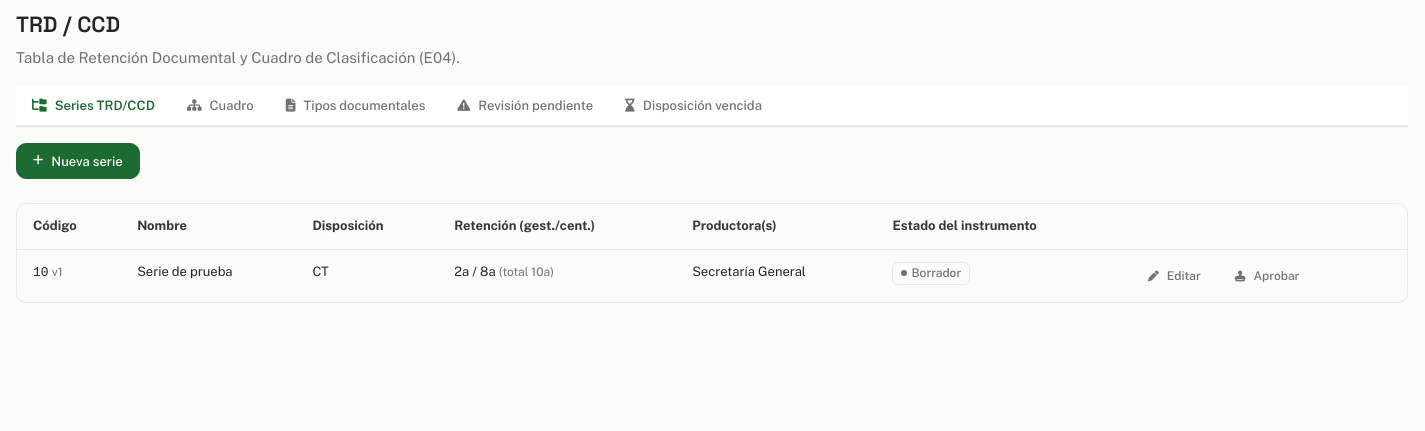
Test: /admin/trd — Revisión pendiente (ADR-025 D4/D6) › cola vacía de verdad: se dice que no hay nada que revisar
Click the tab "Revisión pendiente".
click(525, 107)  # box [441,86,609,127]
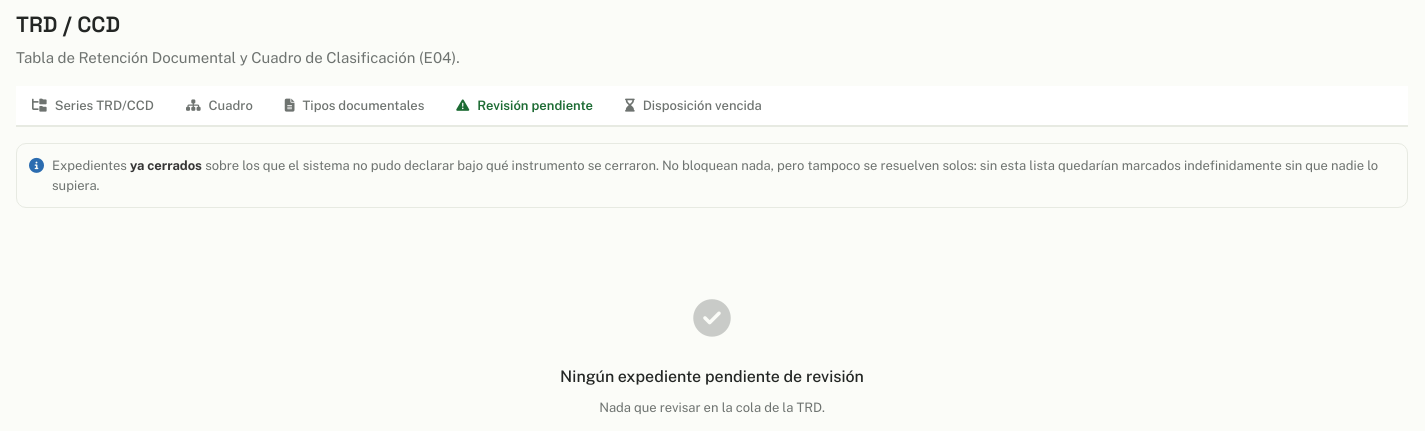
Expected: the text "Ningún expediente pendiente de revisión" is shown, [560,364,864,390]
